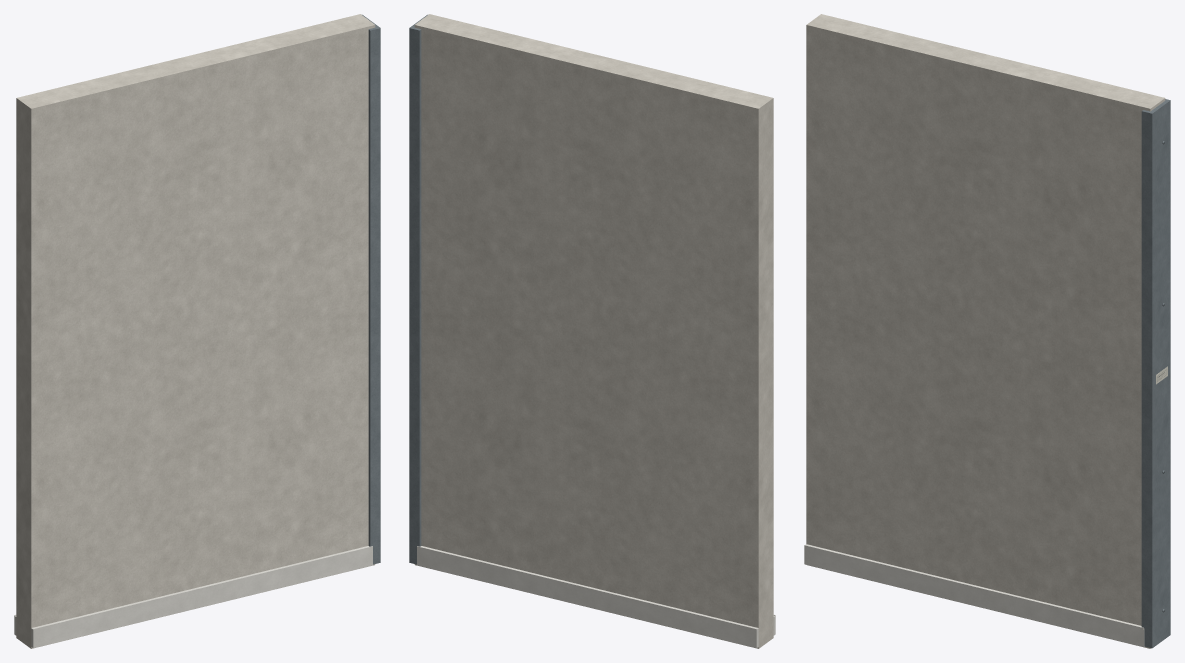
Rendered from PROJECT_Z_Interior_V05_Finished_EndCap_2m.glb.
3 views of the same model, side by side, from view 1: azimuth 30°, elevation 25°; view 2: azimuth 150°, elevation 25°; view 3: azimuth 330°, elevation 25° (orthographic).
Visible parts, largest first — view 1: V05_Finished_EndCap_2m__Render_Plastershell_Continuous, V05_Finished_EndCap_2m__Render_EndChannel_FrontReturn, V05_Finished_EndCap_2m__Render_Skirting_Front, V05_Finished_EndCap_2m__Render_Skirting_TopLip_Front; view 2: V05_Finished_EndCap_2m__Render_Plastershell_Continuous, V05_Finished_EndCap_2m__Render_EndChannel_BackReturn, V05_Finished_EndCap_2m__Render_Skirting_Back, V05_Finished_EndCap_2m__Render_Skirting_TopLip_Back; view 3: V05_Finished_EndCap_2m__Render_Plastershell_Continuous, V05_Finished_EndCap_2m__Render_EndChannel_Face, V05_Finished_EndCap_2m__Render_Skirting_Front, V05_Finished_EndCap_2m__Render_EndChannel_FrontReturn, V05_Finished_EndCap_2m__Render_Skirting_TopLip_Front.
Part boxes in pixels (x1=…): V05_Finished_EndCap_2m__Render_Plastershell_Continuous: x1=16, y1=14, x2=375, y2=648; V05_Finished_EndCap_2m__Render_EndChannel_FrontReturn: x1=368, y1=27, x2=380, y2=564; V05_Finished_EndCap_2m__Render_Skirting_Front: x1=31, y1=546, x2=372, y2=648; V05_Finished_EndCap_2m__Render_Skirting_TopLip_Front: x1=33, y1=546, x2=372, y2=630; V05_Finished_EndCap_2m__Render_Plastershell_Continuous: x1=414, y1=14, x2=773, y2=648; V05_Finished_EndCap_2m__Render_EndChannel_BackReturn: x1=409, y1=27, x2=421, y2=564; V05_Finished_EndCap_2m__Render_Skirting_Back: x1=417, y1=546, x2=758, y2=648; V05_Finished_EndCap_2m__Render_Skirting_TopLip_Back: x1=417, y1=546, x2=756, y2=630; V05_Finished_EndCap_2m__Render_Plastershell_Continuous: x1=806, y1=14, x2=1165, y2=648; V05_Finished_EndCap_2m__Render_EndChannel_Face: x1=1149, y1=99, x2=1170, y2=647; V05_Finished_EndCap_2m__Render_Skirting_Front: x1=804, y1=544, x2=1144, y2=646; V05_Finished_EndCap_2m__Render_EndChannel_FrontReturn: x1=1141, y1=110, x2=1153, y2=648; V05_Finished_EndCap_2m__Render_Skirting_TopLip_Front: x1=804, y1=545, x2=1143, y2=629.
Size of the model in its own units: 2.03 by 3 by 0.194.
4 materials, 4 textured.
